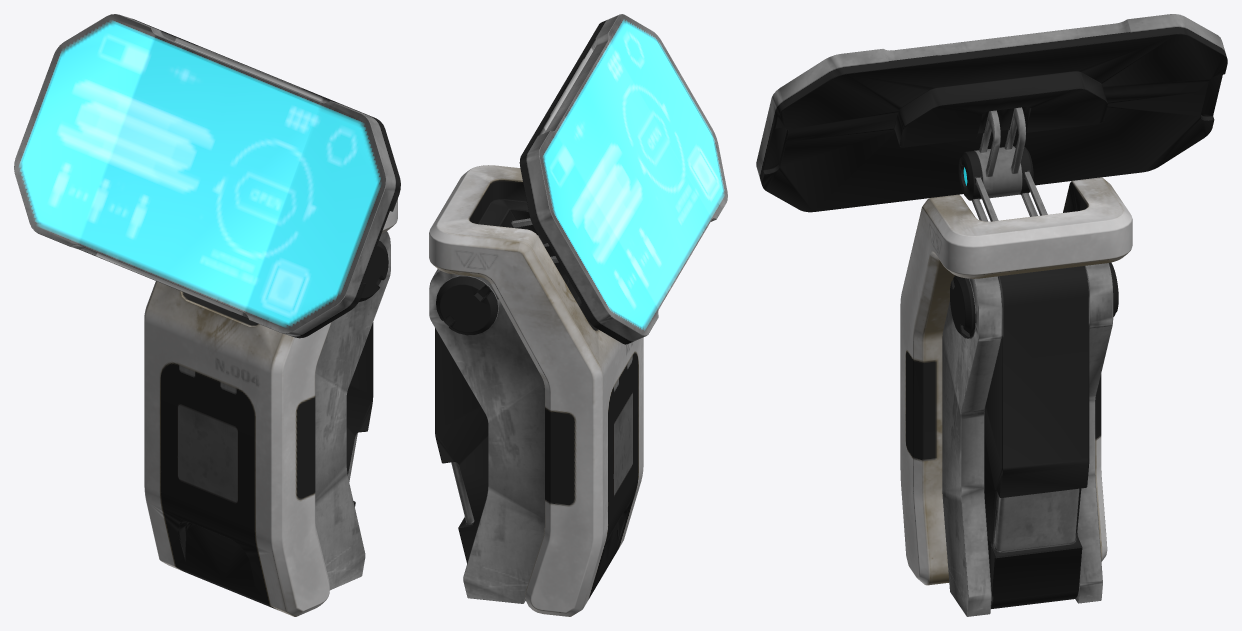
The model's file is Screen (Both).fbx.
3 views of the same model, side by side, from view 1: azimuth 30°, elevation 25°; view 2: azimuth 150°, elevation 25°; view 3: azimuth 270°, elevation 25° (orthographic). The views are drawn at different scales.
Parts seen in each view (by area): view 1: screen_low; view 2: screen_low; view 3: screen_low.
Boxes of the visible parts, left/top/right/bottom form: screen_low: left=14, top=14, right=400, bottom=616; screen_low: left=429, top=14, right=727, bottom=616; screen_low: left=756, top=14, right=1227, bottom=616.
Bounding box in the file's own units: 91.92 × 167 × 134.
Materials: 1 (1 with a texture image).
